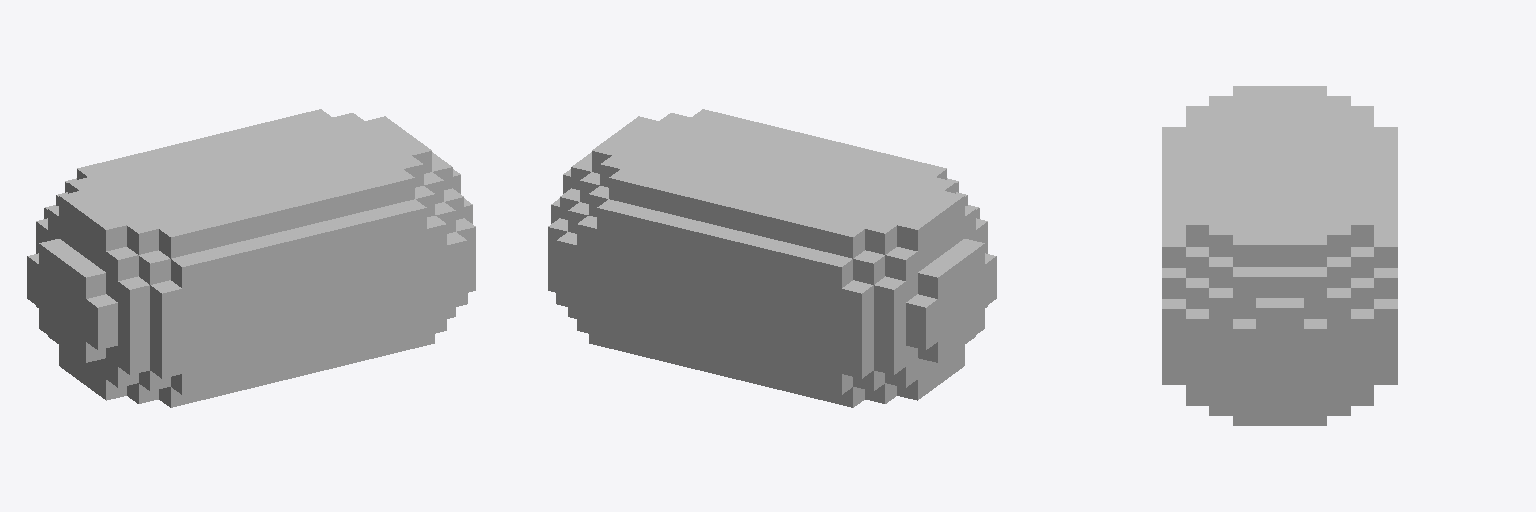
File: rocks1.obj
3 views of the same model, side by side, from view 1: azimuth 30°, elevation 25°; view 2: azimuth 150°, elevation 25°; view 3: azimuth 270°, elevation 25° (orthographic).
Visible parts, largest first — view 1: rocks1; view 2: rocks1; view 3: rocks1.
Boxes of the visible parts, box(x1,y1,x2,y2) form: rocks1: box(27, 109, 475, 407); rocks1: box(548, 109, 996, 407); rocks1: box(1162, 86, 1397, 425).
Bounding box in the file's own units: 19 × 8 × 10.